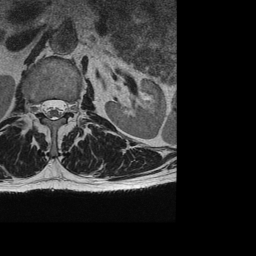CCS_normal: (49, 94, 58, 122)
LFS_normal: (67, 96, 75, 118)
LLS_normal: (59, 94, 67, 119)
RFS_normal: (34, 98, 42, 118)
RLS_normal: (41, 96, 49, 119)
